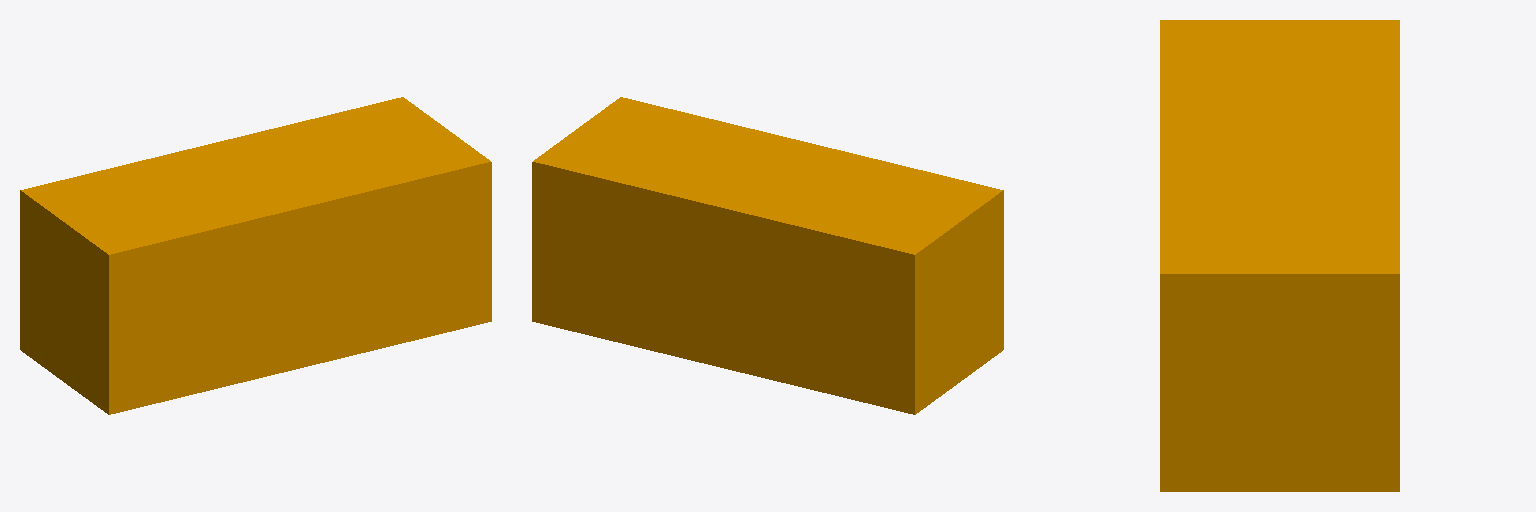
robot.urdf — mobile_arm:
<?xml version="1.0" ?>
<robot name="mobile_arm">
  <link name="panda_link0">
    <visual>
      <geometry>
        <mesh filename="package://mobile_arm/meshes/link0.dae"/>
      </geometry>
    </visual>
    <collision>
      <geometry>
        <mesh filename="package://mobile_arm/meshes/link0.stl"/>
      </geometry>
    </collision>
  </link>
  <link name="panda_link1">
    <visual>
      <geometry>
        <mesh filename="package://mobile_arm/meshes/link1.dae"/>
      </geometry>
    </visual>
    <collision>
      <geometry>
        <mesh filename="package://mobile_arm/meshes/link1.stl"/>
      </geometry>
    </collision>
  </link>
  <joint name="panda_joint1" type="revolute">
    <safety_controller k_position="100.0" k_velocity="40.0" soft_lower_limit="-2.8973" soft_upper_limit="2.8973"/>
    <origin rpy="0 0 0" xyz="0 0 0.333"/>
    <parent link="panda_link0"/>
    <child link="panda_link1"/>
    <axis xyz="0 0 1"/>
    <limit effort="87" lower="-2.8973" upper="2.8973" velocity="2.1750"/>
  </joint>
  <link name="panda_link2">
    <visual>
      <geometry>
        <mesh filename="package://mobile_arm/meshes/link2.dae"/>
      </geometry>
    </visual>
    <collision>
      <geometry>
        <mesh filename="package://mobile_arm/meshes/link2.stl"/>
      </geometry>
    </collision>
  </link>
  <joint name="panda_joint2" type="revolute">
    <safety_controller k_position="100.0" k_velocity="40.0" soft_lower_limit="-1.7628" soft_upper_limit="1.7628"/>
    <origin rpy="-1.57079632679 0 0" xyz="0 0 0"/>
    <parent link="panda_link1"/>
    <child link="panda_link2"/>
    <axis xyz="0 0 1"/>
    <limit effort="87" lower="-1.7628" upper="1.7628" velocity="2.1750"/>
  </joint>
  <link name="panda_link3">
    <visual>
      <geometry>
        <mesh filename="package://mobile_arm/meshes/link3.dae"/>
      </geometry>
    </visual>
    <collision>
      <geometry>
        <mesh filename="package://mobile_arm/meshes/link3.stl"/>
      </geometry>
    </collision>
  </link>
  <joint name="panda_joint3" type="revolute">
    <safety_controller k_position="100.0" k_velocity="40.0" soft_lower_limit="-2.8973" soft_upper_limit="2.8973"/>
    <origin rpy="1.57079632679 0 0" xyz="0 -0.316 0"/>
    <parent link="panda_link2"/>
    <child link="panda_link3"/>
    <axis xyz="0 0 1"/>
    <limit effort="87" lower="-2.8973" upper="2.8973" velocity="2.1750"/>
  </joint>
  <link name="panda_link4">
    <visual>
      <geometry>
        <mesh filename="package://mobile_arm/meshes/link4.dae"/>
      </geometry>
    </visual>
    <collision>
      <geometry>
        <mesh filename="package://mobile_arm/meshes/link4.stl"/>
      </geometry>
    </collision>
  </link>
  <joint name="panda_joint4" type="revolute">
    <safety_controller k_position="100.0" k_velocity="40.0" soft_lower_limit="-3.0718" soft_upper_limit="-0.0698"/>
    <origin rpy="1.57079632679 0 0" xyz="0.0825 0 0"/>
    <parent link="panda_link3"/>
    <child link="panda_link4"/>
    <axis xyz="0 0 1"/>
    <limit effort="87" lower="-3.0718" upper="-0.0698" velocity="2.1750"/>
  </joint>
  <link name="panda_link5">
    <visual>
      <geometry>
        <mesh filename="package://mobile_arm/meshes/link5.dae"/>
      </geometry>
    </visual>
    <collision>
      <geometry>
        <mesh filename="package://mobile_arm/meshes/link5.stl"/>
      </geometry>
    </collision>
  </link>
  <joint name="panda_joint5" type="revolute">
    <safety_controller k_position="100.0" k_velocity="40.0" soft_lower_limit="-2.8973" soft_upper_limit="2.8973"/>
    <origin rpy="-1.57079632679 0 0" xyz="-0.0825 0.384 0"/>
    <parent link="panda_link4"/>
    <child link="panda_link5"/>
    <axis xyz="0 0 1"/>
    <limit effort="12" lower="-2.8973" upper="2.8973" velocity="2.6100"/>
  </joint>
  <link name="panda_link6">
    <visual>
      <geometry>
        <mesh filename="package://mobile_arm/meshes/link6.dae"/>
      </geometry>
    </visual>
    <collision>
      <geometry>
        <mesh filename="package://mobile_arm/meshes/link6.stl"/>
      </geometry>
    </collision>
  </link>
  <joint name="panda_joint6" type="revolute">
    <safety_controller k_position="100.0" k_velocity="40.0" soft_lower_limit="-0.0175" soft_upper_limit="3.7525"/>
    <origin rpy="1.57079632679 0 0" xyz="0 0 0"/>
    <parent link="panda_link5"/>
    <child link="panda_link6"/>
    <axis xyz="0 0 1"/>
    <limit effort="12" lower="-0.0175" upper="3.7525" velocity="2.6100"/>
  </joint>
  <link name="panda_link7">
    <visual>
      <geometry>
        <mesh filename="package://mobile_arm/meshes/link7.dae"/>
      </geometry>
    </visual>
    <collision>
      <origin rpy="0 0 0" xyz="0 0 0"/>
      <geometry>
        <mesh scale="0.82 0.82 0.82" filename="package://mobile_arm/meshes/link7.stl"/>
      </geometry>
    </collision>
  </link>
  <joint name="panda_joint7" type="revolute">
    <safety_controller k_position="100.0" k_velocity="40.0" soft_lower_limit="-2.8973" soft_upper_limit="2.8973"/>
    <origin rpy="1.57079632679 0 0" xyz="0.088 0 0"/>
    <parent link="panda_link6"/>
    <child link="panda_link7"/>
    <axis xyz="0 0 1"/>
    <limit effort="12" lower="-2.8973" upper="2.8973" velocity="2.6100"/>
  </joint>
  <link name="panda_link8_camera">
    <visual>
      <geometry>
        <box size="0.02 0.02 0.05"/>
      </geometry>
    </visual>
  </link>
  <joint name="panda_joint8" type="fixed">
    <origin rpy="0 0 0" xyz="0 0 0.107"/>
    <parent link="panda_link7"/>
    <child link="panda_link8_camera"/>
    <axis xyz="0 0 0"/>
  </joint>
</robot>

--- Render facts (derived) ---
The picture shows the robot from 3 angles, left to right: view 1: azimuth 30°, elevation 25°; view 2: azimuth 150°, elevation 25°; view 3: azimuth 270°, elevation 25°; orthographic projection.
Robot: mobile_arm — 9 links, 8 joints (7 revolute, 1 fixed); root link panda_link0; default pose: joints at zero except 1 at the middle of their limits (panda_joint4 = -1.57).
Links seen in each view (by area): view 1: panda_link8_camera; view 2: panda_link8_camera; view 3: panda_link8_camera.
Boxes of the visible links, x1,y1,x2,y2 form: panda_link8_camera: [20, 97, 491, 414]; panda_link8_camera: [532, 97, 1003, 414]; panda_link8_camera: [1160, 20, 1399, 491].
Size in the robot's own frame: 0.05 by 0.02 by 0.02 metres.
0 mesh visuals loaded from 8 distinct referenced files (none loaded); not drawn: 8 (reference not matched to a file when rendering).